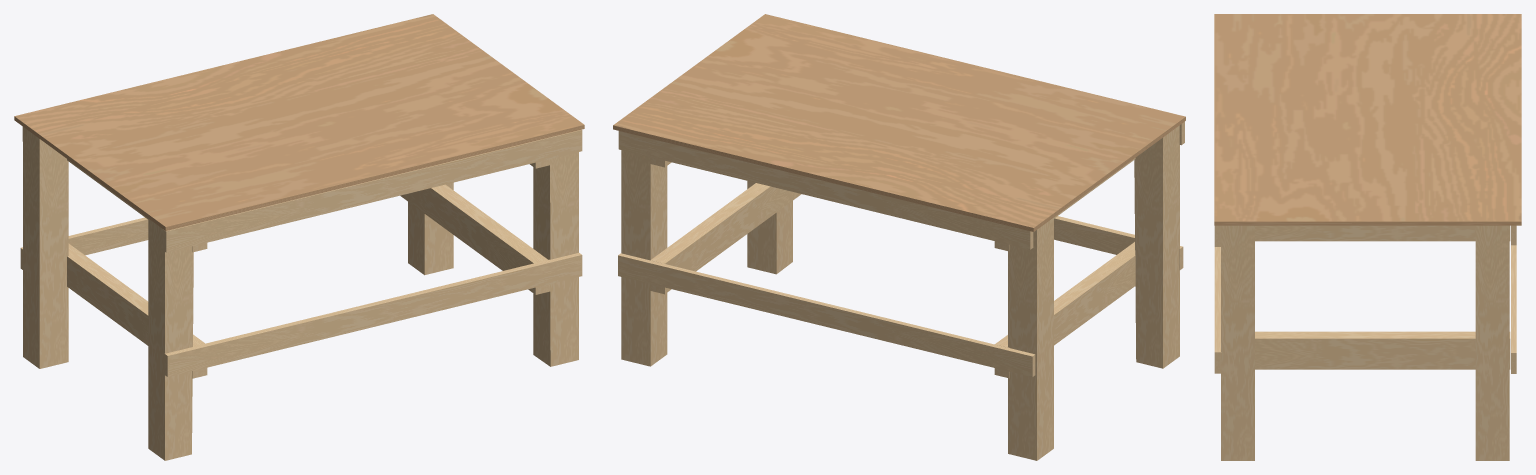
Rendered from Main_Bench.fbx.
The picture shows the model from 3 angles, left to right: view 1: azimuth 30°, elevation 25°; view 2: azimuth 150°, elevation 25°; view 3: azimuth 270°, elevation 25°; orthographic projection.
Parts seen in each view (by area): view 1: Shelf_1_Shelves001, Shelf_1_Frame001; view 2: Shelf_1_Shelves001, Shelf_1_Frame001; view 3: Shelf_1_Shelves001, Shelf_1_Frame001.
Boxes of the visible parts, left/top/right/bottom form: Shelf_1_Shelves001: left=14, top=14, right=584, bottom=230; Shelf_1_Frame001: left=20, top=127, right=582, bottom=460; Shelf_1_Shelves001: left=613, top=14, right=1185, bottom=231; Shelf_1_Frame001: left=618, top=121, right=1184, bottom=460; Shelf_1_Shelves001: left=1214, top=14, right=1521, bottom=225; Shelf_1_Frame001: left=1214, top=225, right=1516, bottom=460.
Size of the model in its own units: 145 by 78.16 by 90.56.
2 materials, 2 textured.
